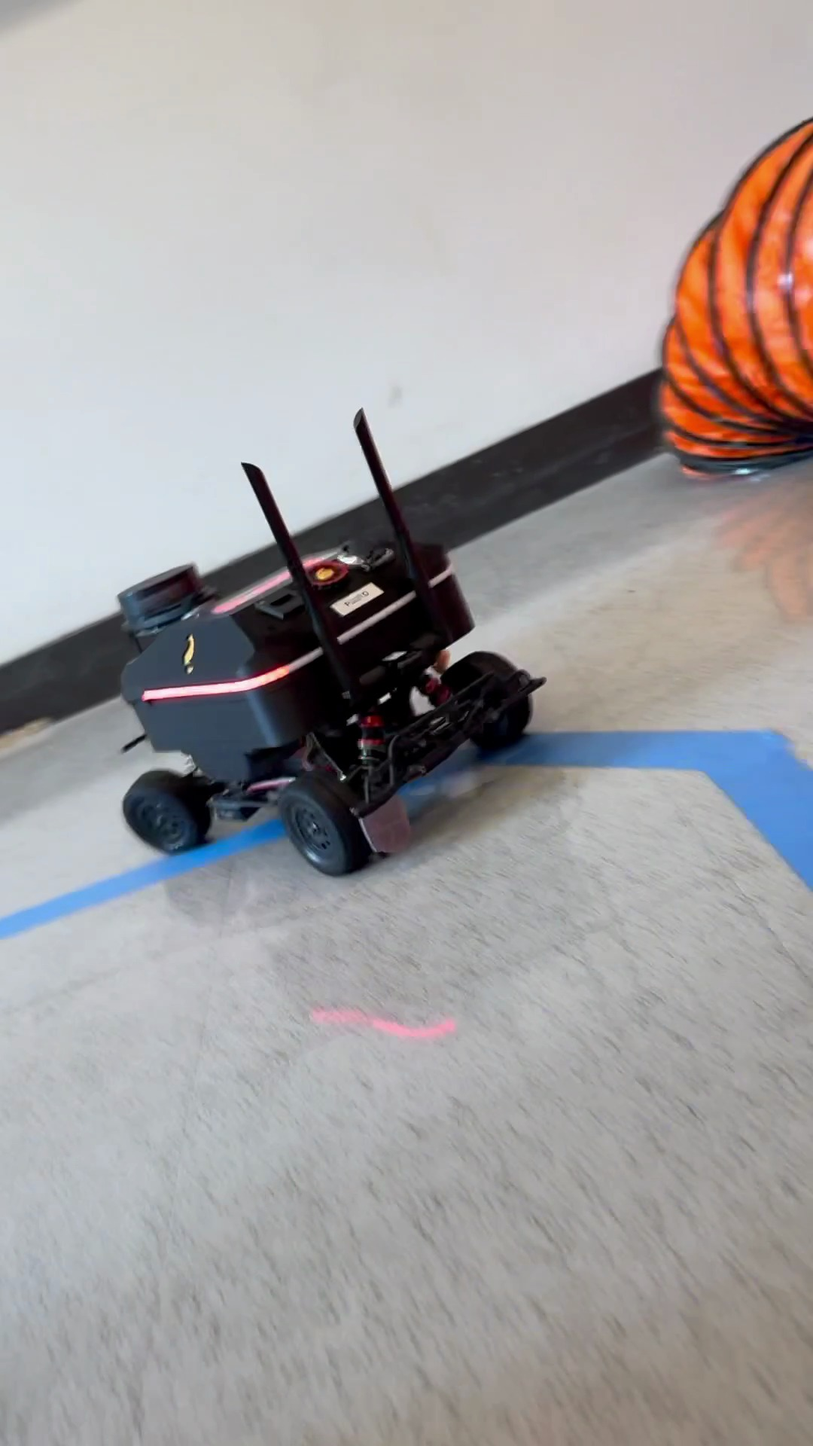racecar: (117, 408, 543, 876)
